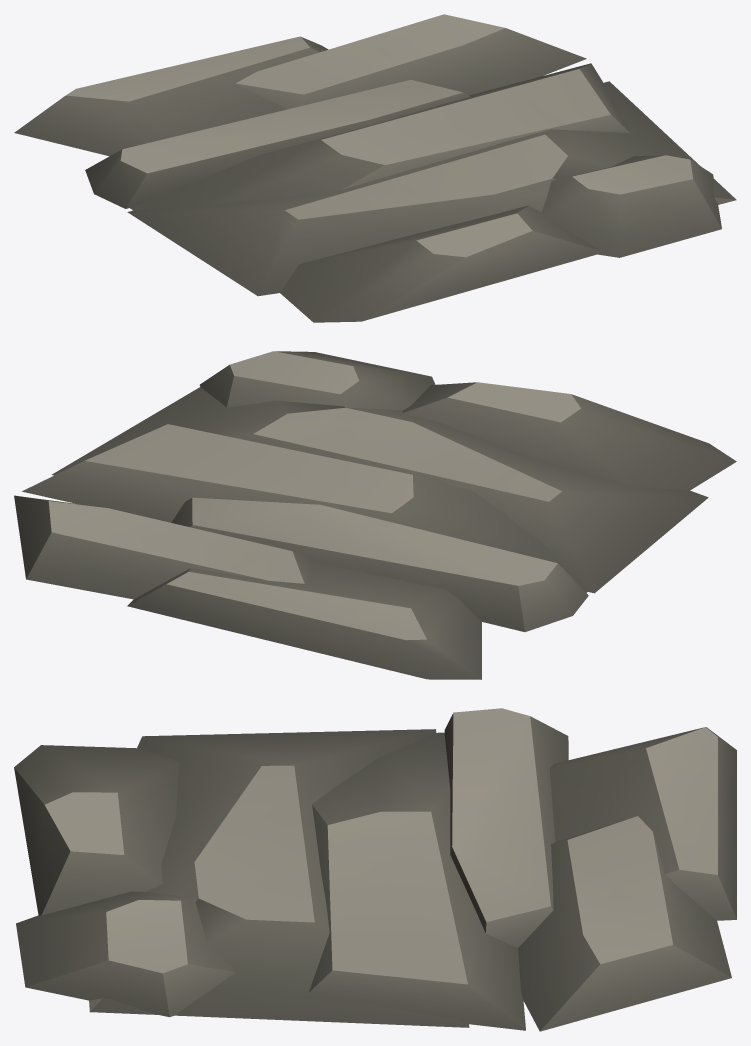
Rendered from Rock_Pavement_1A.fbx.
3 views of the same model, one above another, from view 1: azimuth 30°, elevation 25°; view 2: azimuth 150°, elevation 25°; view 3: azimuth 270°, elevation 25° (orthographic). The views are drawn at different scales.
Parts seen in each view (by area): view 1: Rock_Pavement_1A; view 2: Rock_Pavement_1A; view 3: Rock_Pavement_1A.
Boxes of the visible parts, bbox=[...] form: Rock_Pavement_1A: bbox=[14, 14, 736, 322]; Rock_Pavement_1A: bbox=[14, 351, 736, 679]; Rock_Pavement_1A: bbox=[14, 708, 736, 1031].
Bounding box in the file's own units: 199 × 10.48 × 198.
